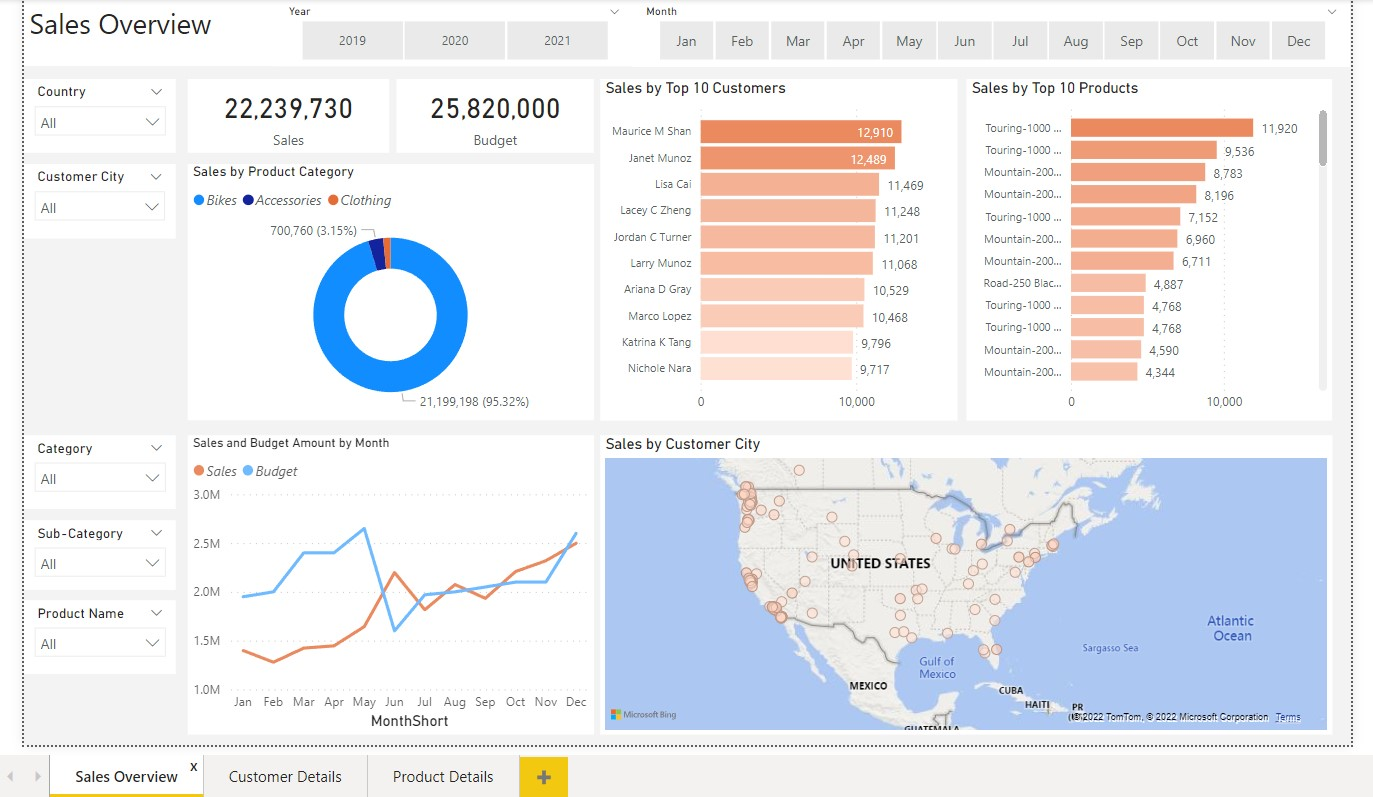

Layout of this report page (visuals, bound fields, positions):
{"tool":"powerbi","page":{"name":"Sales Overview","canvas":[1280,720],"ordinal":0},"visuals":[{"type":"textbox","box":[0,0,1278.6,64.5],"z":0},{"type":"slicer","fields":{"Values":["DIM_Customer.CustomerCity"]},"box":[0,159.5,146.1,72.4],"z":1000},{"type":"slicer","fields":{"Values":["DIM_Products.Subcategory"]},"box":[0,502.6,146.5,67.2],"z":2000},{"type":"slicer","fields":{"Values":["DIM_Products.ProductCategory"]},"box":[0,421.2,146.5,71.2],"z":3000},{"type":"slicer","fields":{"Values":["DIM_Products.ProductName"]},"box":[0,580,146.5,71.2],"z":4000},{"type":"slicer","fields":{"Values":["DIM_Calendar.Year"]},"box":[242.4,0,344.9,65.1],"z":5000},{"type":"slicer","fields":{"Values":["DIM_Calendar.MonthShort"]},"box":[587.8,0,692.2,65.5],"z":6000},{"type":"barChart","title":"Sales by Top 10 Products","fields":{"Y":["FACT_InternetSales2.Sales"],"Category":["DIM_Products.ProductName"]},"box":[909.6,77.3,353.1,329.7],"z":7000},{"type":"slicer","fields":{"Values":["DIM_Customer.Country"]},"box":[0,77.3,146.5,71.2],"z":8000},{"type":"map","title":"Sales by Customer City","fields":{"Category":["DIM_Customer.CustomerCity"]},"box":[556.6,421.2,706.1,289],"z":9000},{"type":"lineChart","title":"Sales and Budget Amount by Month","fields":{"Y":["FACT_InternetSales2.Sales","FACT_Budget.Budget Amount"],"Category":["DIM_Calendar.MonthShort"]},"box":[157.7,421.2,391.7,289],"z":10000},{"type":"card","fields":{"Values":["FACT_InternetSales2.Sales"]},"box":[158.2,77.7,194.3,71],"z":11000},{"type":"card","fields":{"Values":["FACT_Budget.Budget Amount"]},"box":[359.2,77.7,190.3,71],"z":12000},{"type":"donutChart","title":"Sales by Product Category","fields":{"Y":["FACT_InternetSales2.Sales"],"Category":["DIM_Products.ProductCategory"]},"box":[157.7,159.7,391.7,247.2],"z":13000},{"type":"barChart","title":"Sales by Top 10 Customers","fields":{"Y":["FACT_InternetSales2.Sales"],"Category":["DIM_Customer.Full Name"]},"box":[556.6,77.3,344.9,329.7],"z":14000}]}

Visuals, with their boxes on the page's 1280x720 design canvas (x1, y1, x2, y2). These are canvas units, not pixel positions in the 1373x797 screenshot, which may show the page scaled, cropped or inside an application window:
textbox: (left=0, top=0, right=1279, bottom=64)
slicer - DIM_Customer.CustomerCity: (left=0, top=160, right=146, bottom=232)
slicer - DIM_Products.Subcategory: (left=0, top=503, right=146, bottom=570)
slicer - DIM_Products.ProductCategory: (left=0, top=421, right=146, bottom=492)
slicer - DIM_Products.ProductName: (left=0, top=580, right=146, bottom=651)
slicer - DIM_Calendar.Year: (left=242, top=0, right=587, bottom=65)
slicer - DIM_Calendar.MonthShort: (left=588, top=0, right=1280, bottom=66)
"Sales by Top 10 Products" barChart: (left=910, top=77, right=1263, bottom=407)
slicer - DIM_Customer.Country: (left=0, top=77, right=146, bottom=148)
"Sales by Customer City" map: (left=557, top=421, right=1263, bottom=710)
"Sales and Budget Amount by Month" lineChart: (left=158, top=421, right=549, bottom=710)
card - FACT_InternetSales2.Sales: (left=158, top=78, right=352, bottom=149)
card - FACT_Budget.Budget Amount: (left=359, top=78, right=550, bottom=149)
"Sales by Product Category" donutChart: (left=158, top=160, right=549, bottom=407)
"Sales by Top 10 Customers" barChart: (left=557, top=77, right=902, bottom=407)
